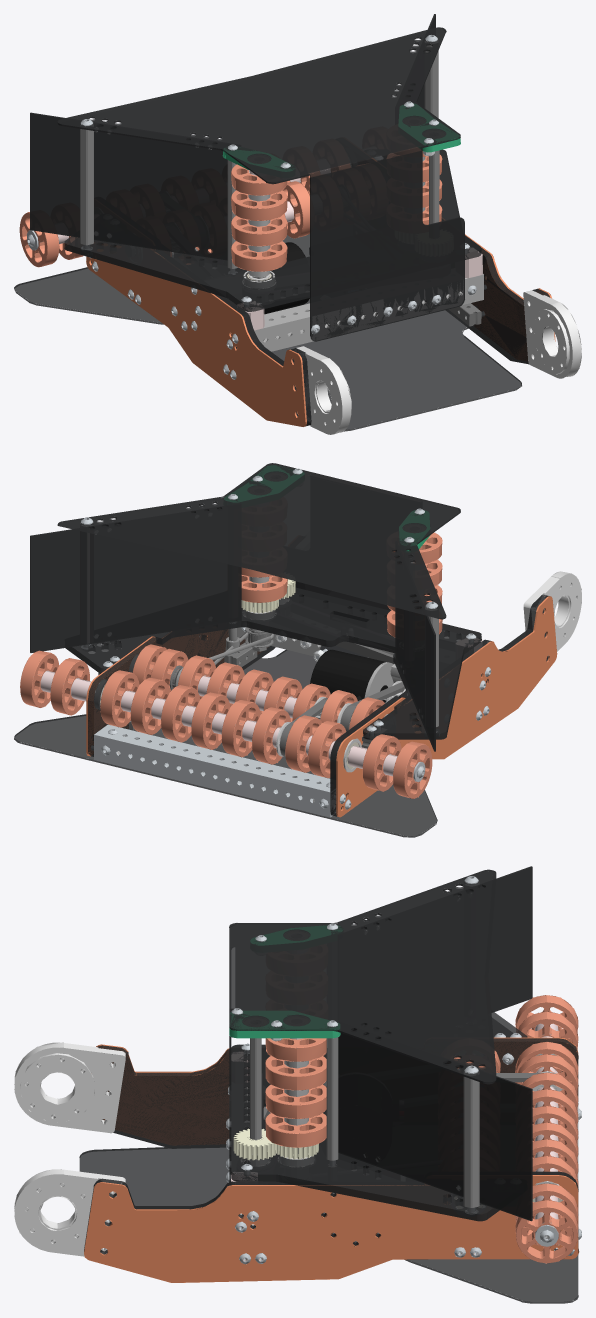
3 views of the same model, one above another, from view 1: azimuth 30°, elevation 25°; view 2: azimuth 150°, elevation 25°; view 3: azimuth 270°, elevation 25° (orthographic). The views are drawn at different scales.
Visible parts, largest first — view 1: Poly cage block; view 2: Poly cage block; view 3: Poly cage block.
Boxes of the visible parts, <box> form: Poly cage block: <box>14,14,581,434</box>; Poly cage block: <box>14,463,581,837</box>; Poly cage block: <box>14,866,581,1303</box>.
Size of the model in its own units: 0.4262 by 0.2149 by 0.4571.
